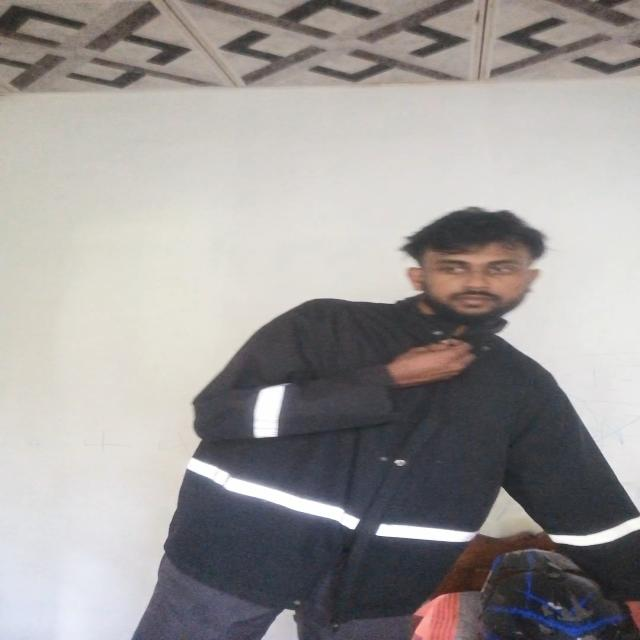Jacket_Wearer: (182, 275, 564, 591)
Person: (179, 194, 640, 640)
